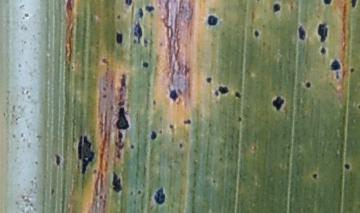tarspot: (77, 135, 95, 173), (114, 107, 130, 130), (331, 57, 342, 79), (131, 23, 143, 43), (317, 22, 328, 43), (154, 187, 166, 205), (272, 93, 284, 111), (112, 172, 122, 193), (297, 24, 307, 42), (118, 73, 127, 90), (207, 14, 218, 27), (53, 152, 63, 166), (168, 88, 178, 101), (114, 31, 123, 45), (144, 4, 156, 13), (218, 85, 229, 94), (272, 2, 280, 14), (100, 57, 110, 66), (137, 6, 144, 18), (115, 99, 125, 107), (150, 130, 157, 141), (114, 142, 125, 149), (311, 172, 319, 181), (182, 118, 192, 125), (117, 130, 123, 141), (167, 122, 175, 130), (233, 92, 241, 100), (140, 61, 149, 68), (319, 46, 326, 55), (305, 80, 311, 90), (323, 1, 333, 7), (205, 76, 212, 84), (254, 29, 259, 39), (128, 143, 135, 150), (135, 188, 142, 195), (350, 1, 357, 8), (349, 66, 355, 74), (344, 162, 350, 170), (50, 187, 55, 196), (116, 150, 121, 159), (126, 1, 133, 7), (116, 13, 122, 20), (211, 178, 217, 185), (101, 93, 108, 99), (101, 85, 107, 92), (214, 89, 219, 97), (178, 142, 183, 149), (152, 98, 156, 106), (237, 116, 242, 122), (98, 194, 103, 200), (158, 129, 163, 134)
